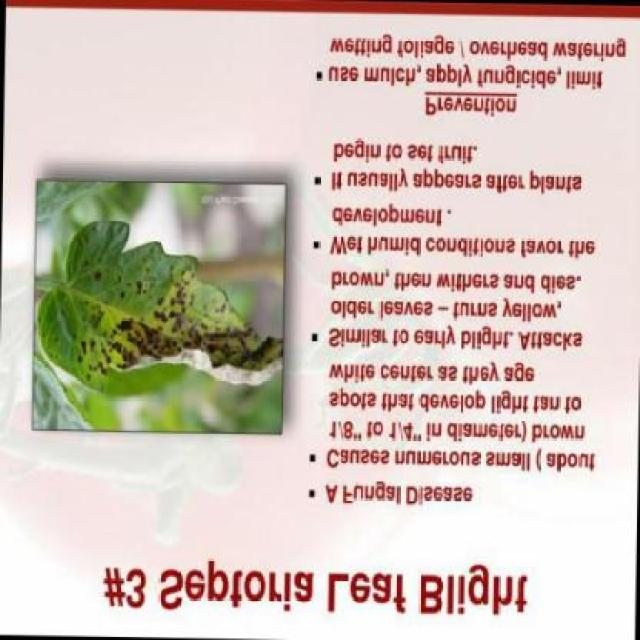Septoria leaf spot: (42, 206, 282, 394)
